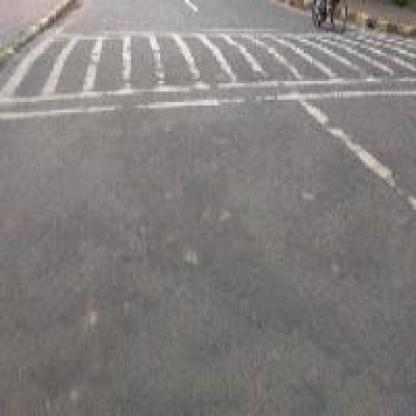Speed Bump: (0, 23, 312, 125)
